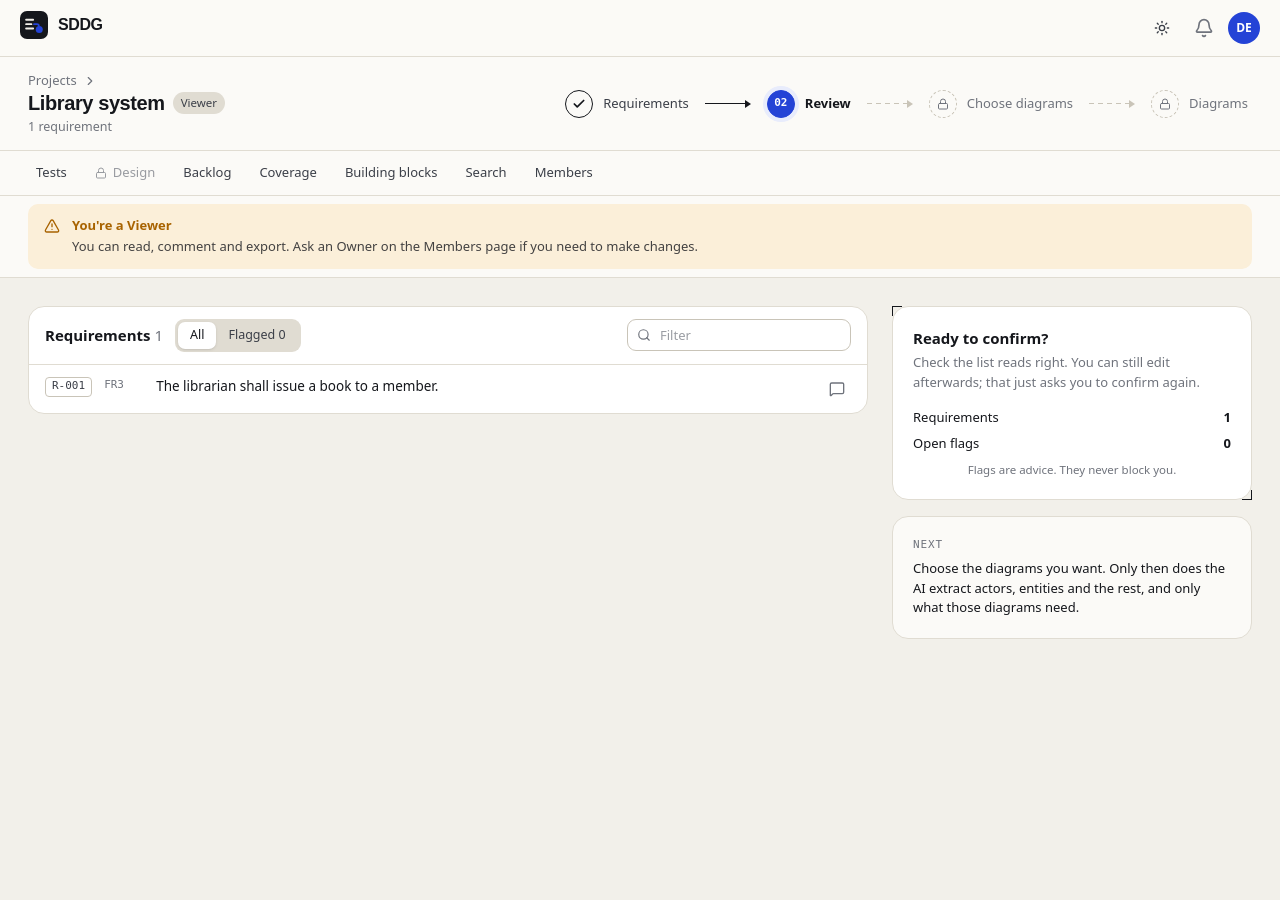
Comments panel › lets a Viewer post but not resolve someone else’s thread
Click the button named "Comments on R-001" at (837, 388), box [823,374,851,402]
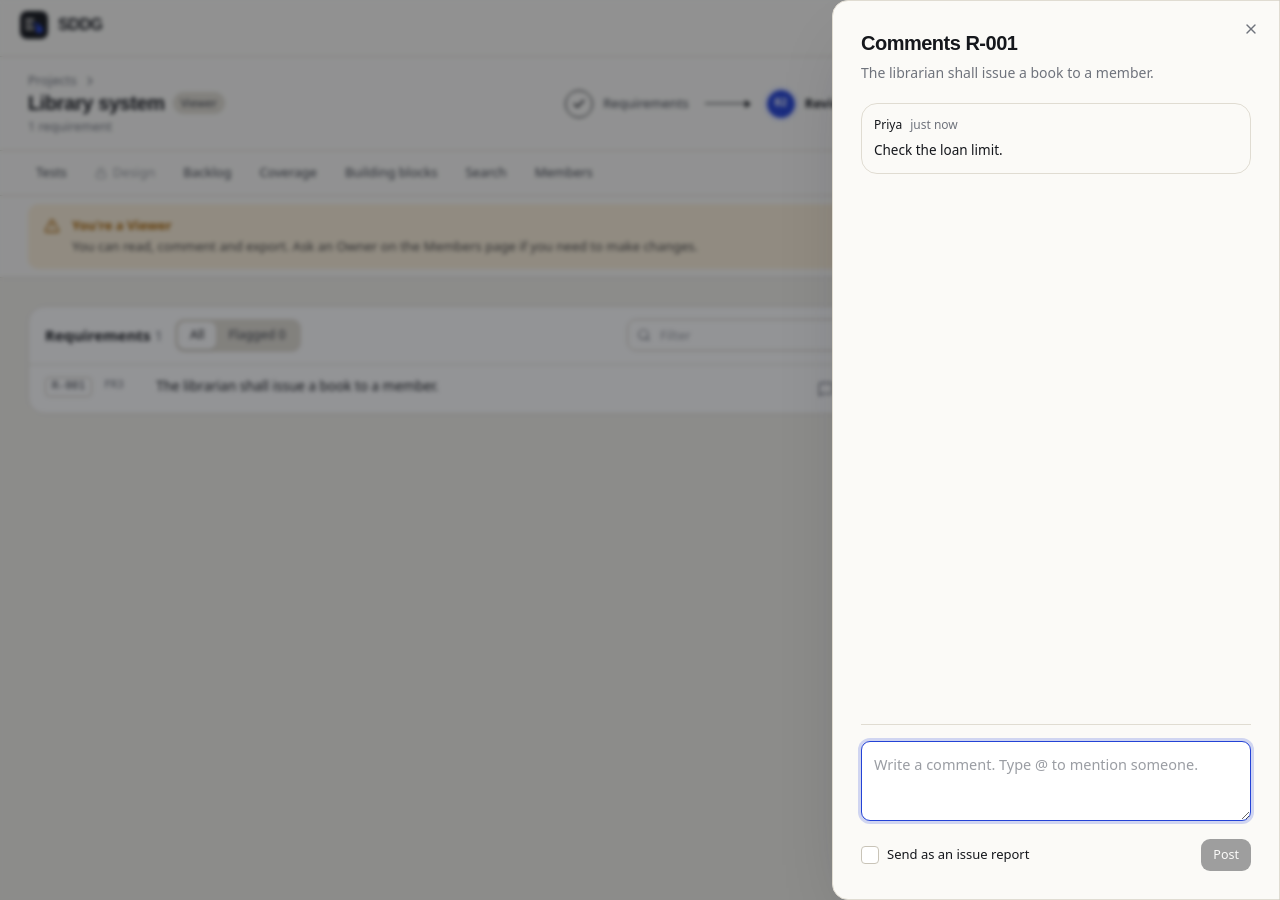
expect the button "Resolve" is not shown: met
expect the text "Check the loan limit." is shown: met, box [874,141,1003,159]
Type "Agreed." into the text box labelled "comment" at (1056, 781), box [861,741,1251,821]
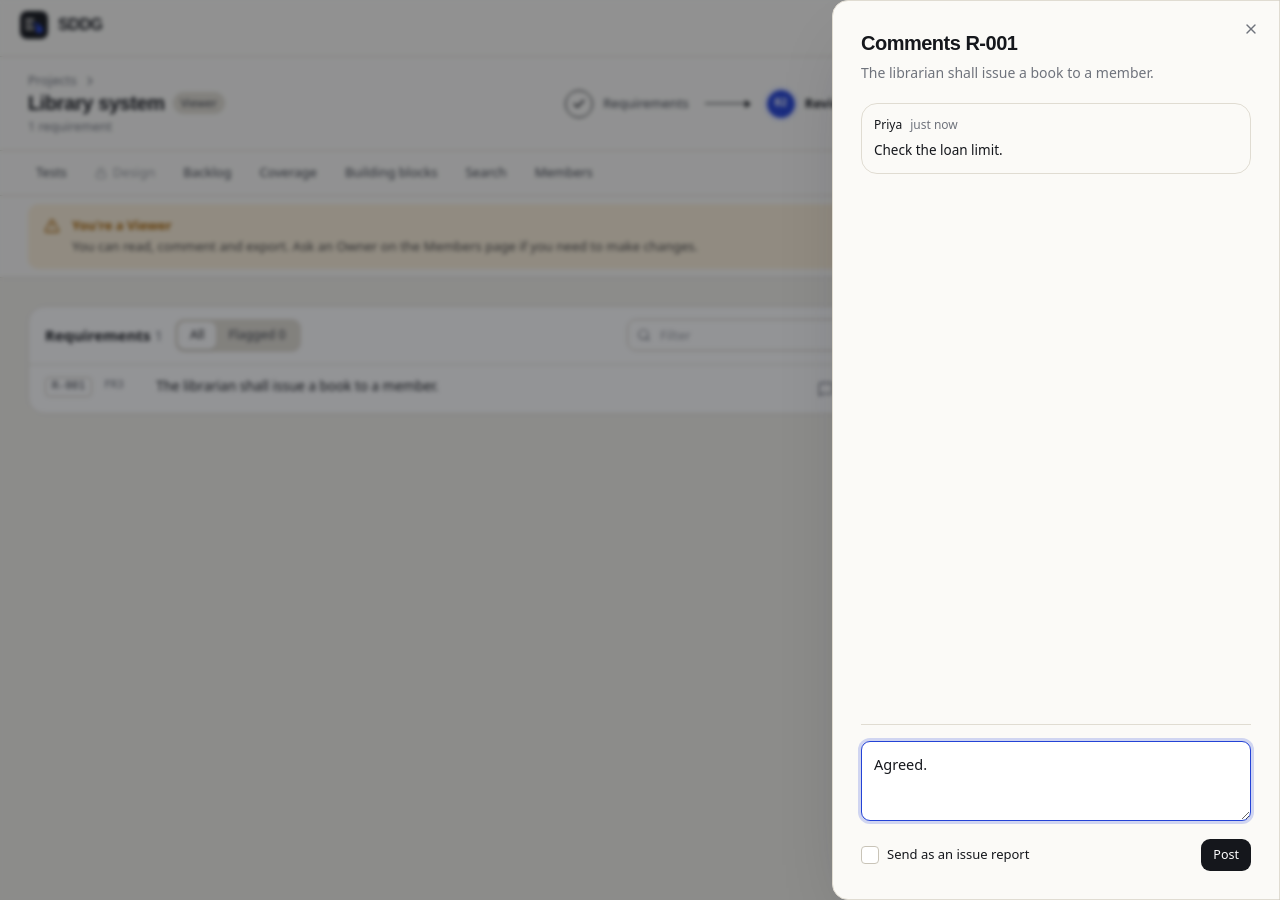
Click the button "Post" at (1226, 855), box [1201,839,1251,871]
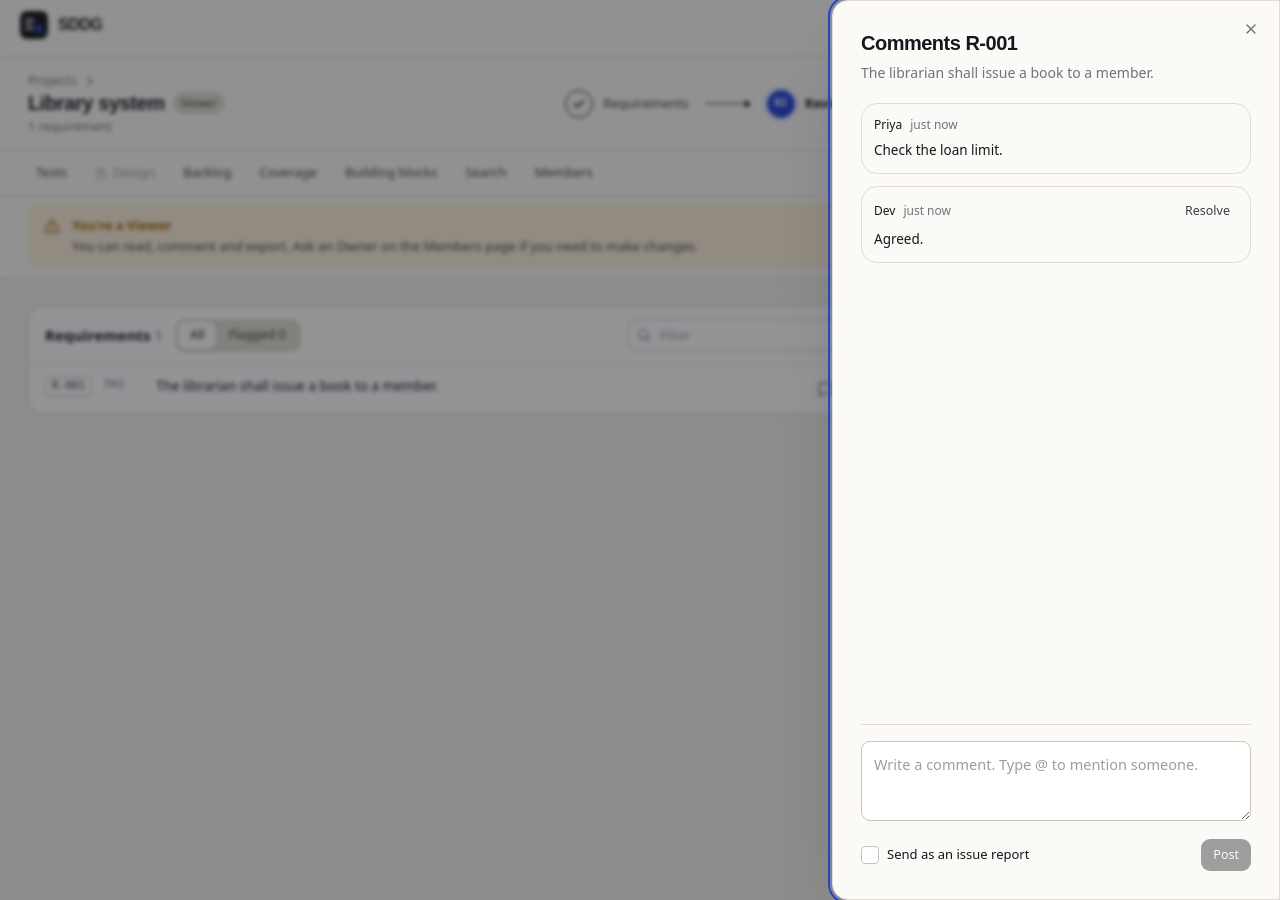
expect the text "Agreed." is shown: met, box [874,230,923,248]
expect the number of buttons "Resolve" is 1: met, box [1177,199,1238,223]
